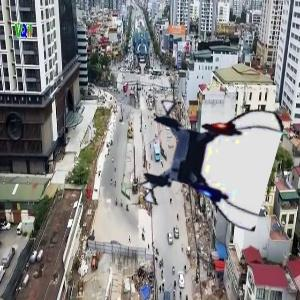drone: (140, 94, 274, 228)
